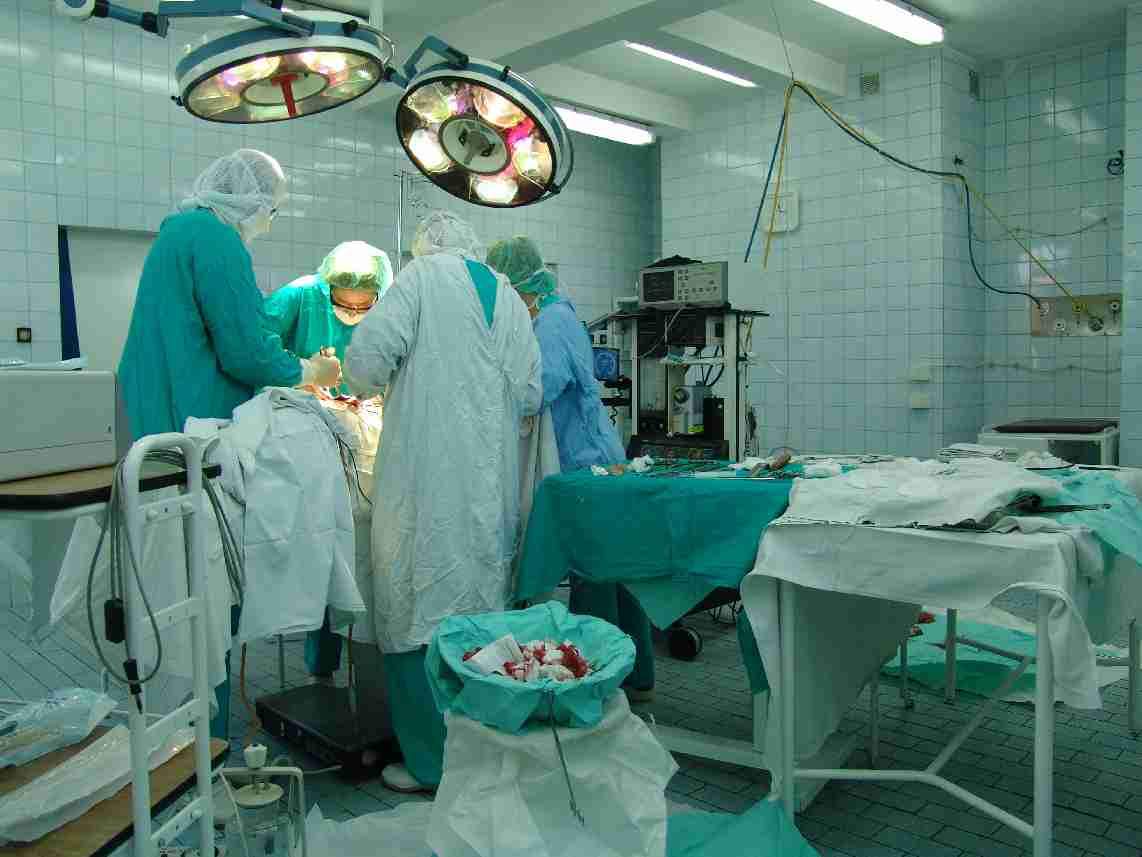electrosurgical_unit: (637, 431, 725, 472)
iv_pole: (381, 165, 422, 276)
operating_bed: (111, 373, 604, 603)
staff: (343, 211, 540, 795), (114, 148, 343, 455), (485, 234, 630, 477), (258, 237, 394, 398)
surgical_instrument: (584, 447, 853, 483)
surgical_light: (393, 55, 575, 209), (171, 8, 388, 126)
table: (970, 415, 1117, 468)
utility_cart: (769, 451, 1142, 857), (513, 450, 891, 779)
waste_bin: (424, 606, 639, 728)
